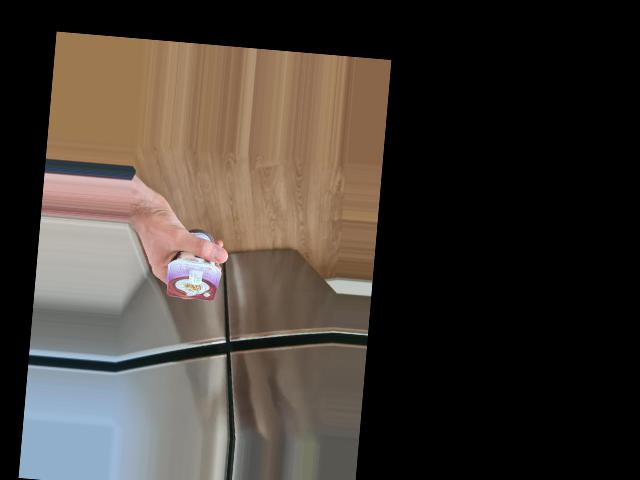milky: (164, 225, 226, 306)
